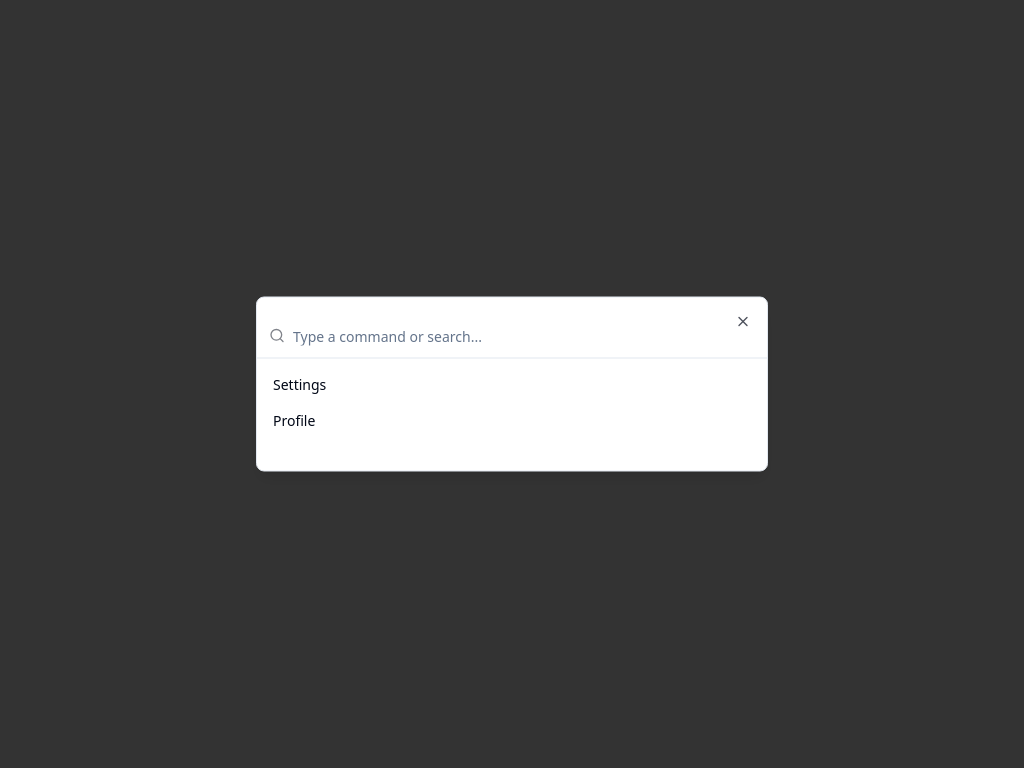
Scenario: Advanced Overlays Components › BaseCommand › filters items based on query
Type "set" into the field with placeholder "Type a command or search...".
click(524, 336); type("set")  # box [293,314,755,358]
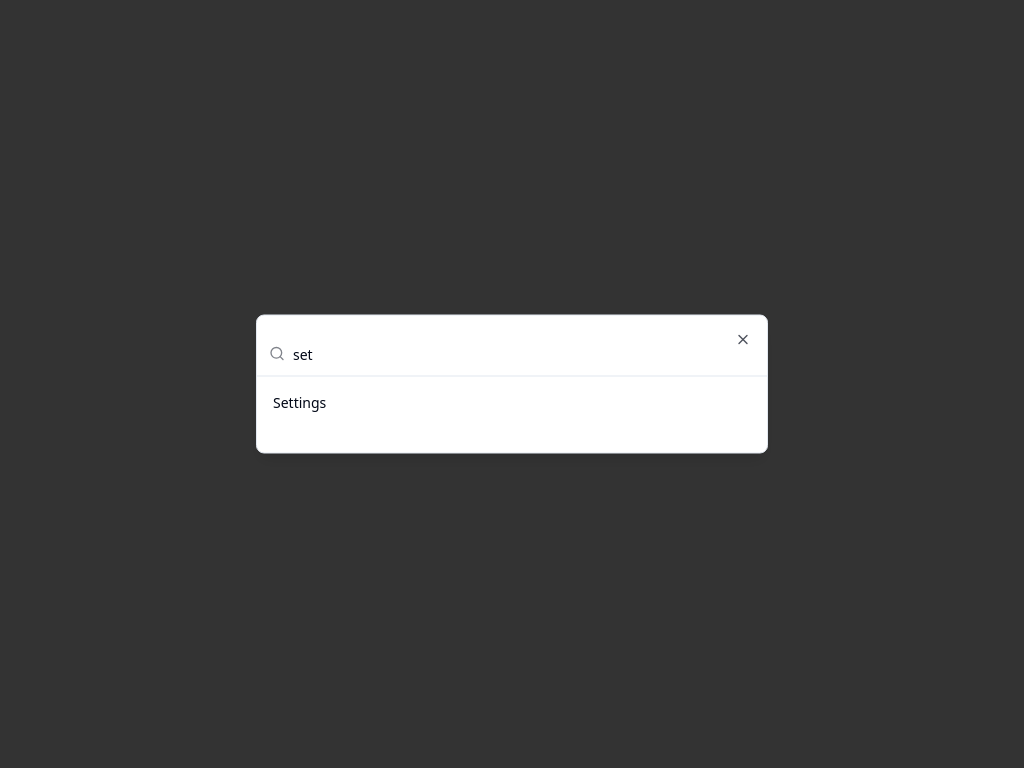
Expected: the text "Settings" is shown, [273,392,326,412]
Expected: the text "Profile" is gone
